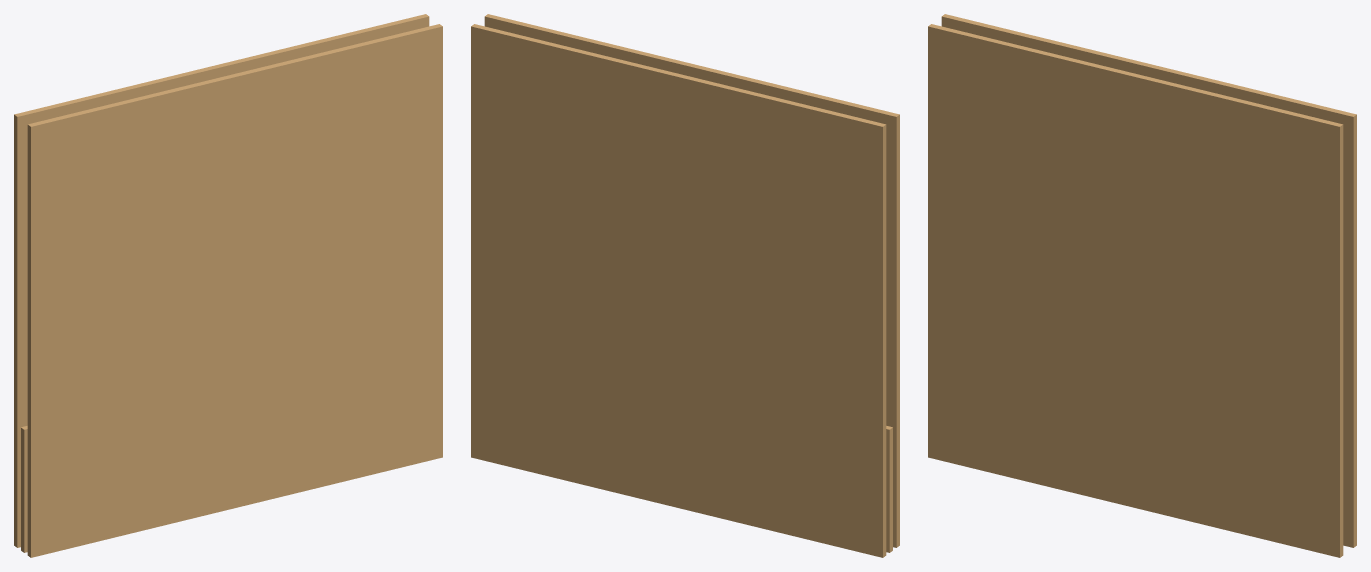
The model's file is board.glb.
3 views of the same model, side by side, from view 1: azimuth 30°, elevation 25°; view 2: azimuth 150°, elevation 25°; view 3: azimuth 330°, elevation 25° (orthographic).
Parts seen in each view (by area): view 1: Substrate_Layer_1, Substrate_Layer_0, Substrate_Layer_2; view 2: Substrate_Layer_0, Substrate_Layer_1, Substrate_Layer_2; view 3: Substrate_Layer_1, Substrate_Layer_0.
Boxes of the visible parts, left/top/right/bottom form: Substrate_Layer_1: left=27, top=24, right=442, bottom=557; Substrate_Layer_0: left=14, top=14, right=429, bottom=547; Substrate_Layer_2: left=21, top=426, right=27, bottom=552; Substrate_Layer_0: left=471, top=24, right=886, bottom=557; Substrate_Layer_1: left=484, top=14, right=899, bottom=547; Substrate_Layer_2: left=886, top=426, right=892, bottom=552; Substrate_Layer_1: left=928, top=24, right=1343, bottom=557; Substrate_Layer_0: left=941, top=14, right=1356, bottom=547.
Size of the model in its own units: 0.007 by 0.007 by 0.0005.
